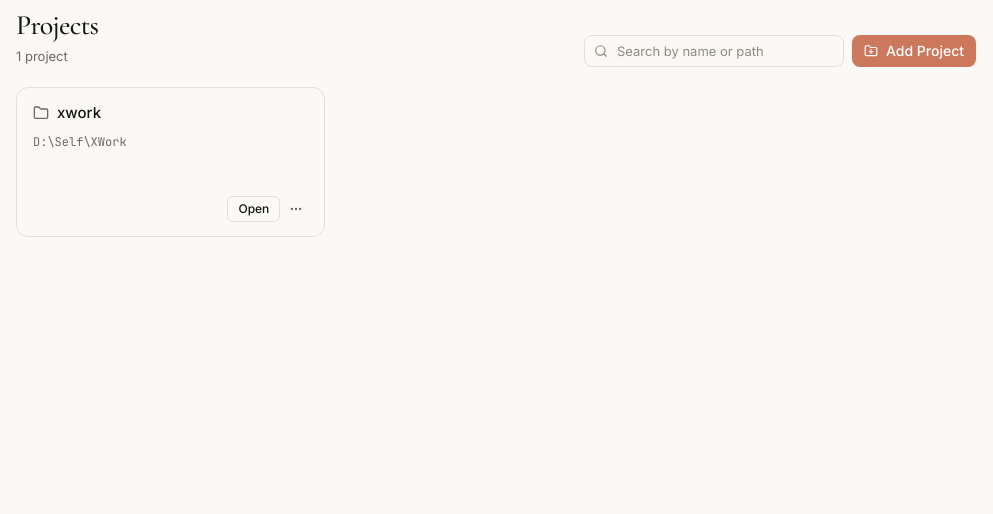
Scenario: ProjectsRoute search › shows the no-match state with the visible query
The image size is (993, 514).
Check: the heading "xwork" is shown, box [57,102,101,122]
Type "zzz" into the field named "Search projects by name or path" at (714, 50), box [584,34,844,66]
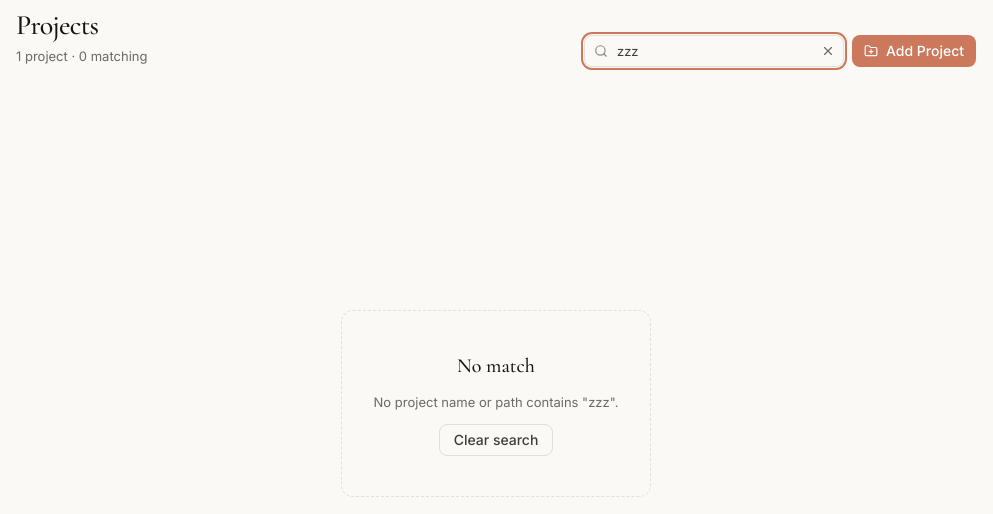
Check: the heading "No match" is shown, box [457,350,535,380]
Check: the text "No project name or path contains \"zzz\"." is shown, box [374,392,618,412]
Check: the text "1 project · 0 matching" is shown, box [16,47,147,66]
